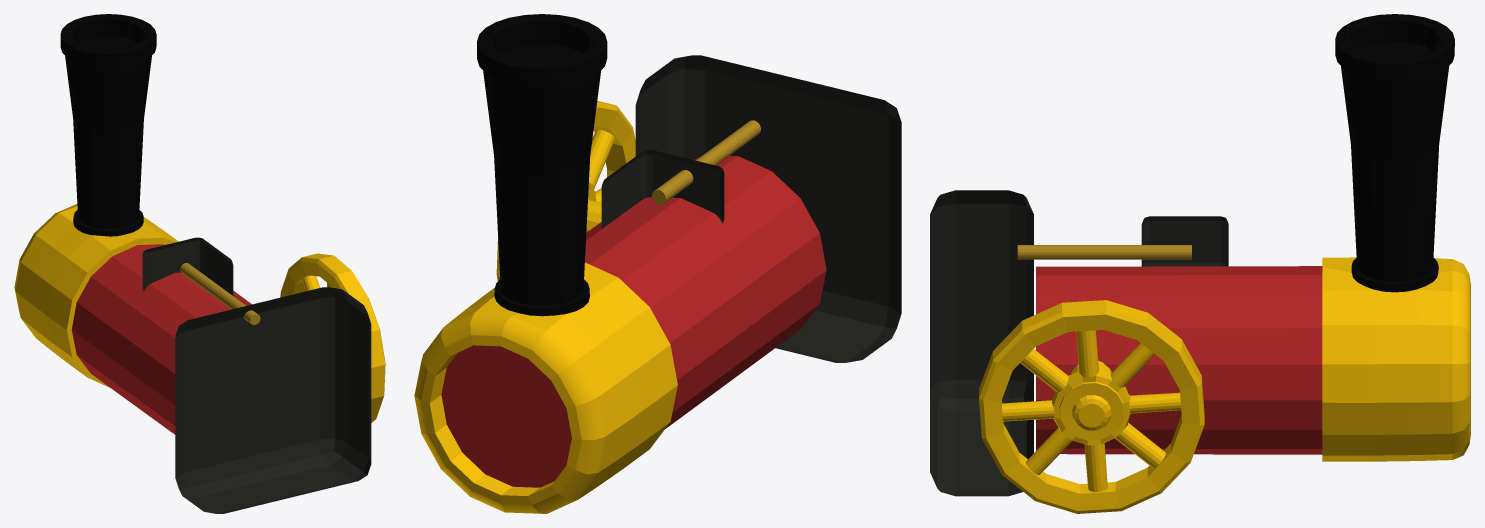
3 views of the same model, side by side, from view 1: azimuth 30°, elevation 25°; view 2: azimuth 150°, elevation 25°; view 3: azimuth 270°, elevation 25° (orthographic). The views are drawn at different scales.
Parts seen in each view (by area): view 1: Circle.003, Circle.002, Circle.025, Circle.001, Circle.004; view 2: Circle.002, Circle.025, Circle.003, Circle.004, Circle.001; view 3: Circle.002, Circle.025, Circle.001, Circle.003, Circle.004.
Boxes of the visible parts, bbox=[...] form: Circle.003: bbox=[175, 287, 371, 513]; Circle.002: bbox=[14, 14, 178, 387]; Circle.025: bbox=[71, 244, 260, 434]; Circle.001: bbox=[280, 253, 385, 422]; Circle.004: bbox=[142, 237, 233, 295]; Circle.002: bbox=[414, 14, 677, 513]; Circle.025: bbox=[441, 120, 826, 487]; Circle.003: bbox=[635, 55, 901, 362]; Circle.004: bbox=[601, 150, 724, 229]; Circle.001: bbox=[496, 101, 635, 280]; Circle.002: bbox=[1322, 14, 1470, 461]; Circle.025: bbox=[1017, 245, 1322, 454]; Circle.001: bbox=[979, 300, 1204, 513]; Circle.003: bbox=[930, 190, 1033, 496]; Circle.004: bbox=[1141, 216, 1228, 266].
Bounding box in the file's own units: 96.01 × 151 × 178.
